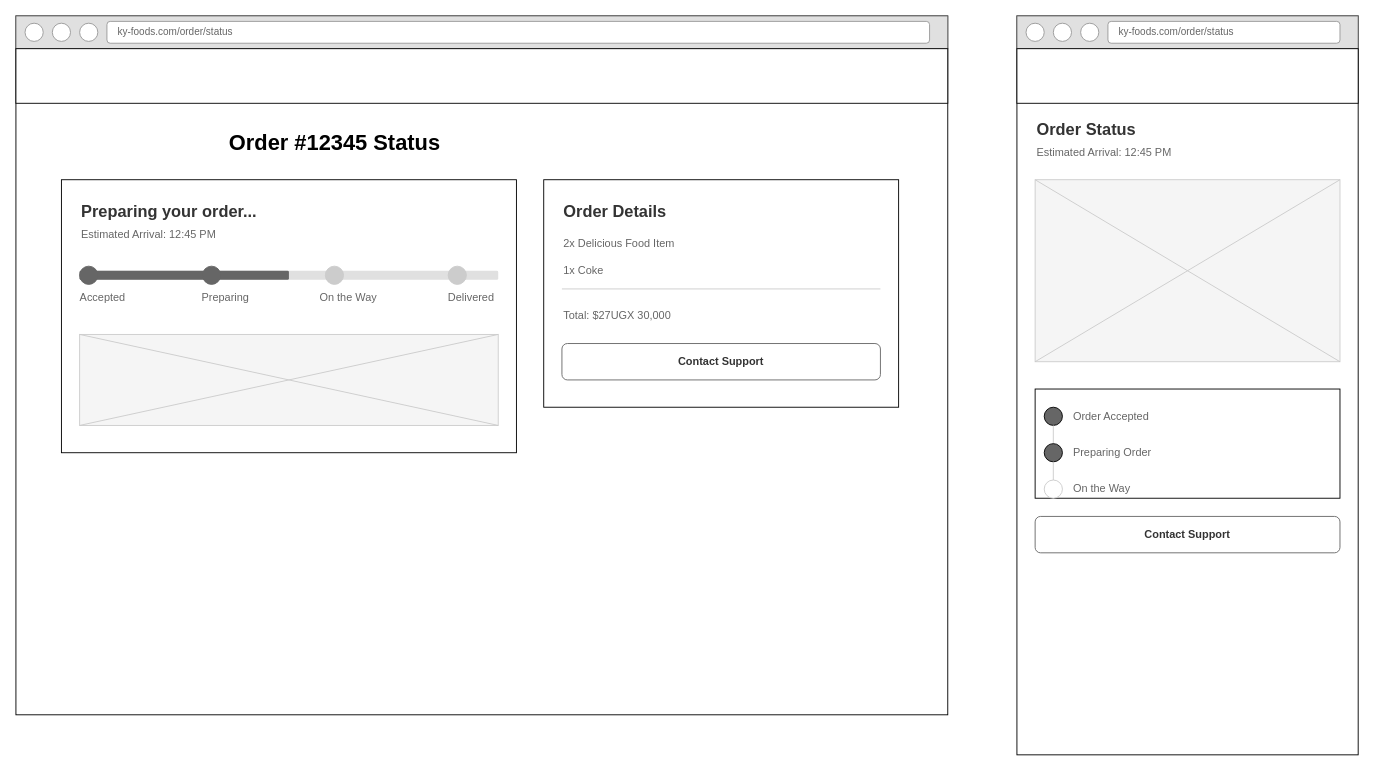
The diagram is 1374 pixels wide and 771 high, and some of its shapes have lost their labels. The centre of each missing label's shape, as x and y in pixels:
Map Placeholder: the point at 1187,270
Map Placeholder (Driver not assigned yet): the point at 288,379
